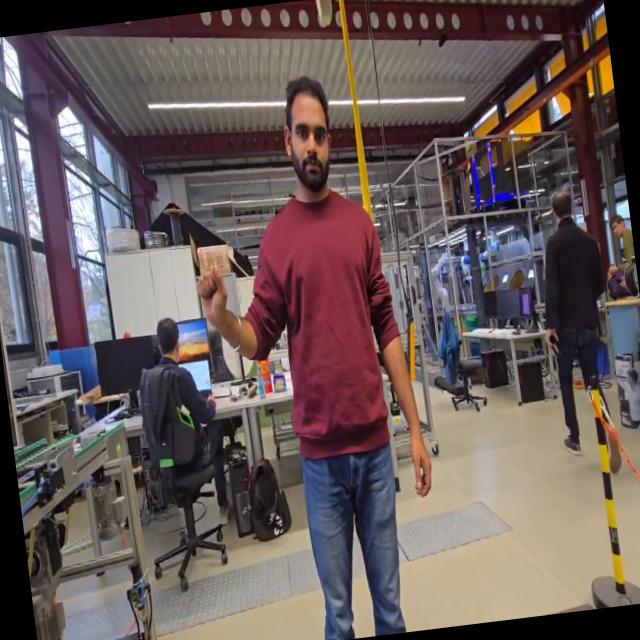closed_fist: (190, 261, 242, 334)
